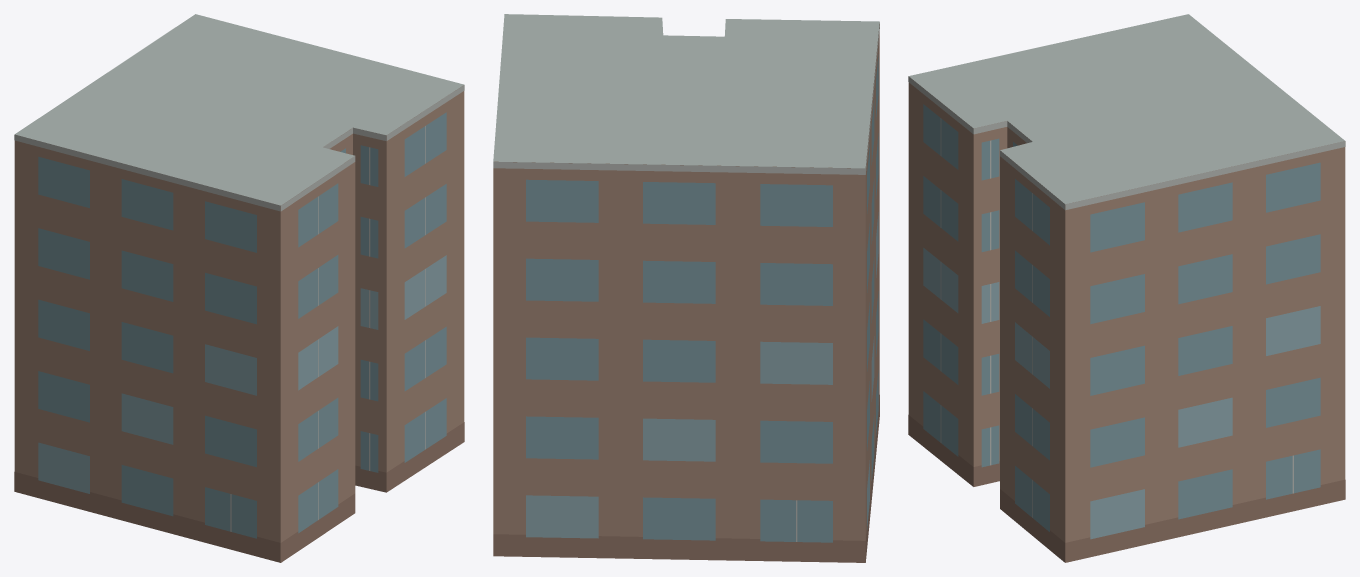
The model's file is survey-upis-32746789.glb.
3 views of the same model, side by side, from view 1: azimuth 30°, elevation 25°; view 2: azimuth 150°, elevation 25°; view 3: azimuth 270°, elevation 25° (orthographic). The views are drawn at different scales.
Parts seen in each view (by area): view 1: survey-upis-32746789.tmp; view 2: survey-upis-32746789.tmp; view 3: survey-upis-32746789.tmp.
Part boxes in pixels (<box>): survey-upis-32746789.tmp: <box>14,14,464,562</box>; survey-upis-32746789.tmp: <box>493,14,879,562</box>; survey-upis-32746789.tmp: <box>908,14,1345,562</box>.
Size of the model in its own units: 16.68 by 14.65 by 16.19.
